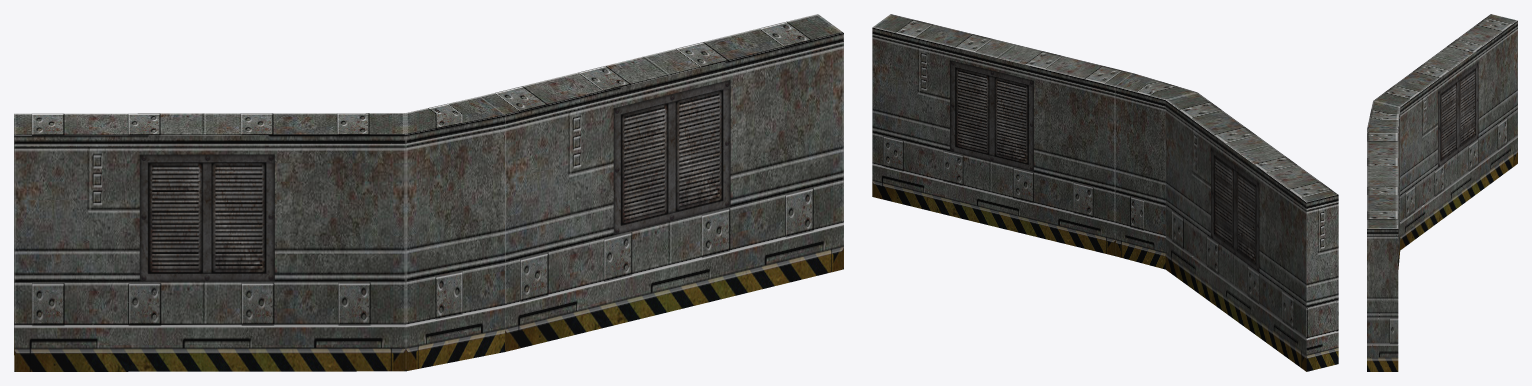
File: SF_block2.FBX
3 views of the same model, side by side, from view 1: azimuth 30°, elevation 25°; view 2: azimuth 150°, elevation 25°; view 3: azimuth 270°, elevation 25° (orthographic). The views are drawn at different scales.
Visible parts, largest first — view 1: Box04; view 2: Box04; view 3: Box04.
Part boxes in pixels (<box>): Box04: <box>14,14,843,371</box>; Box04: <box>872,14,1338,371</box>; Box04: <box>1367,14,1517,371</box>.
Size of the model in its own units: 668 by 207 by 198.
Materials: 1 (1 with a texture image).
